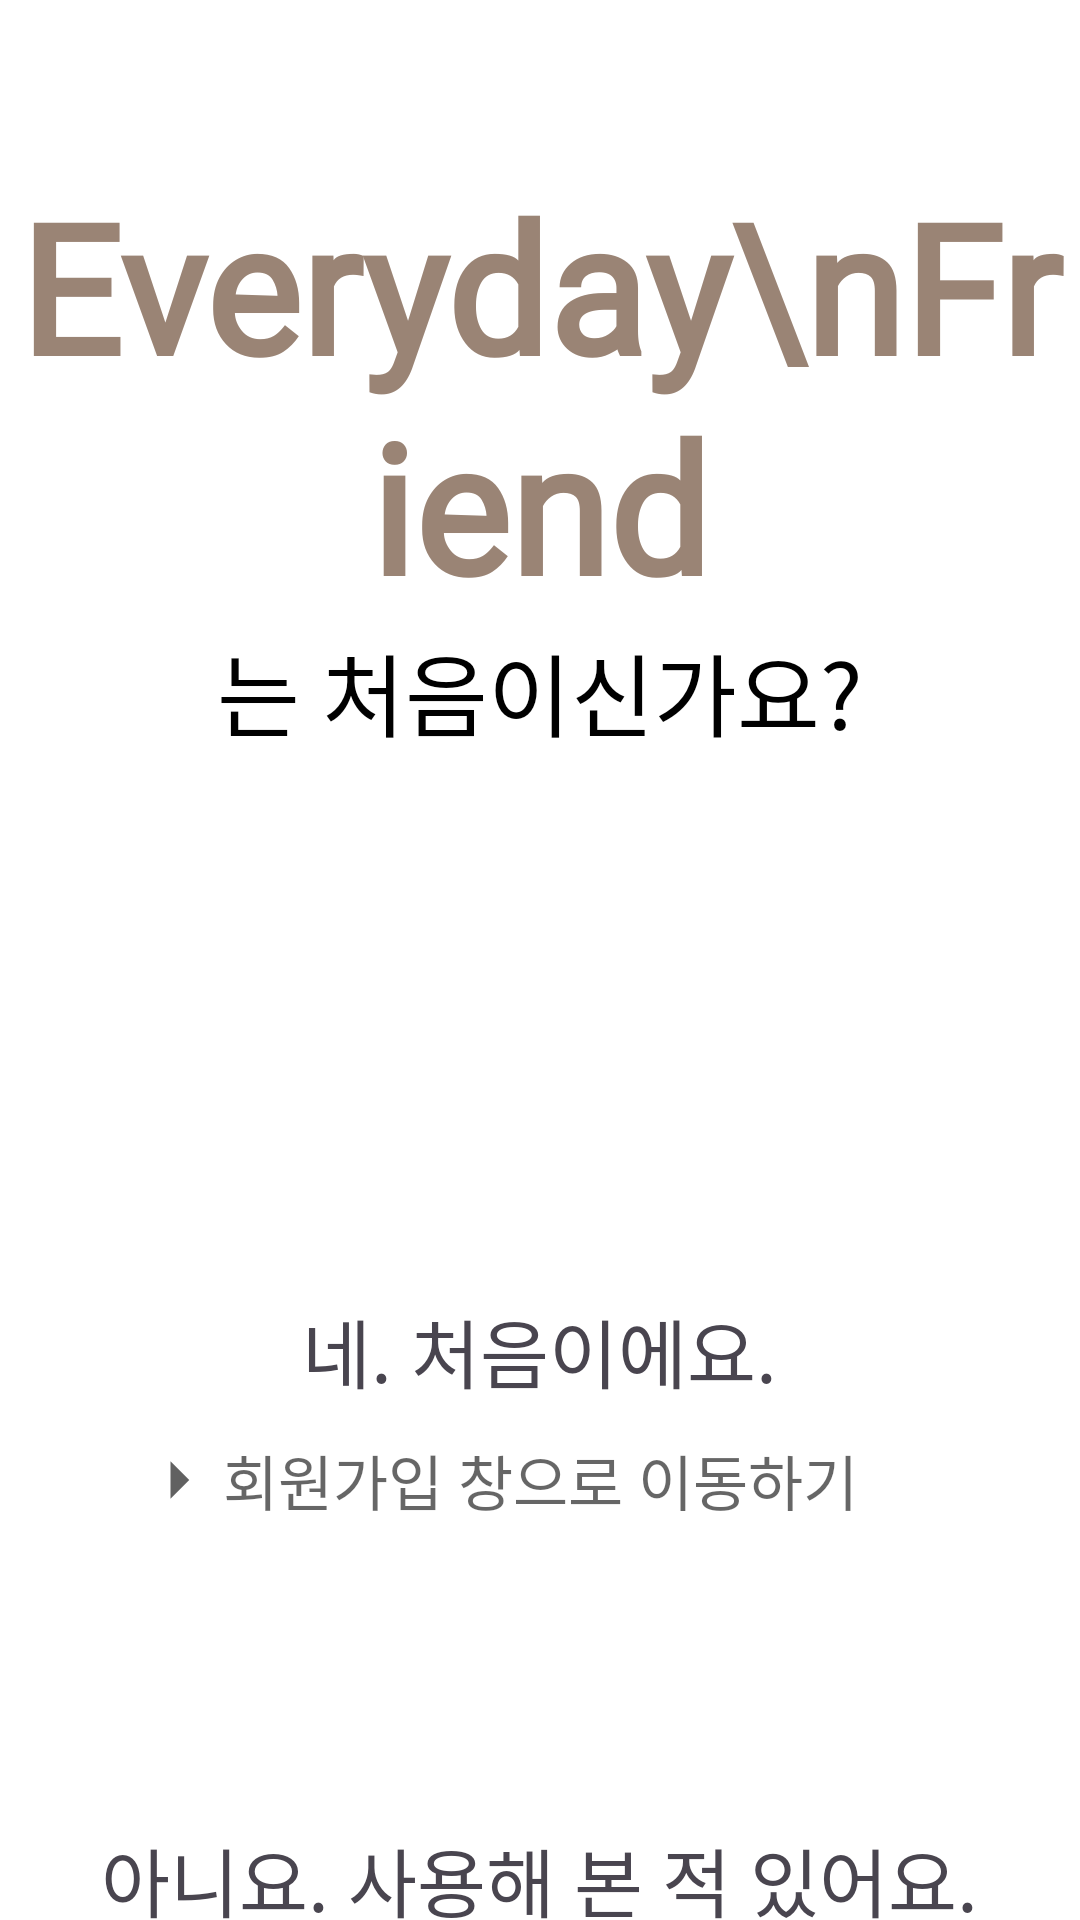

Where to tap for icons on this 1080*1920 app screen, as point (x, y):
arrow right: point (179, 1480)
